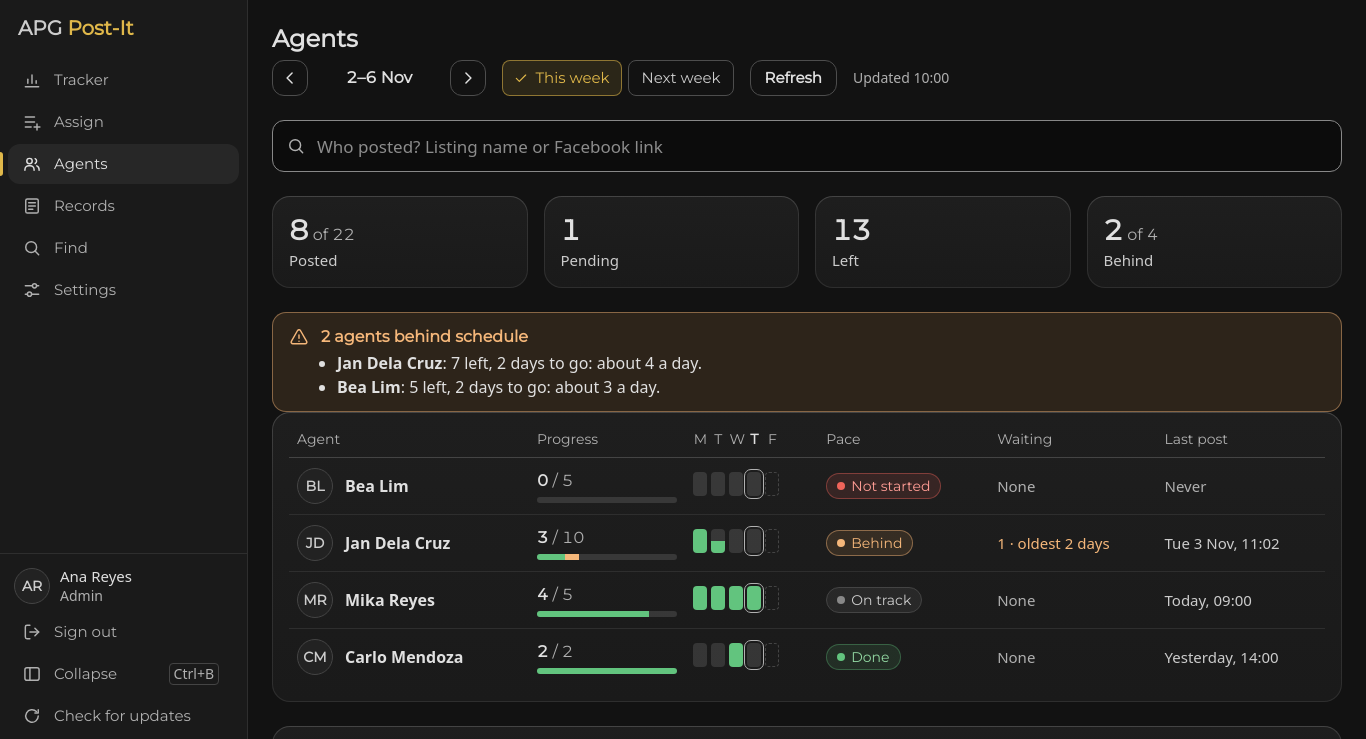
Scenario: the Interns screen: the week › follows the week picker
The image size is (1366, 739).
Click the 1st button named "Week before". click: point(290, 78)
box: [272, 60, 308, 96]
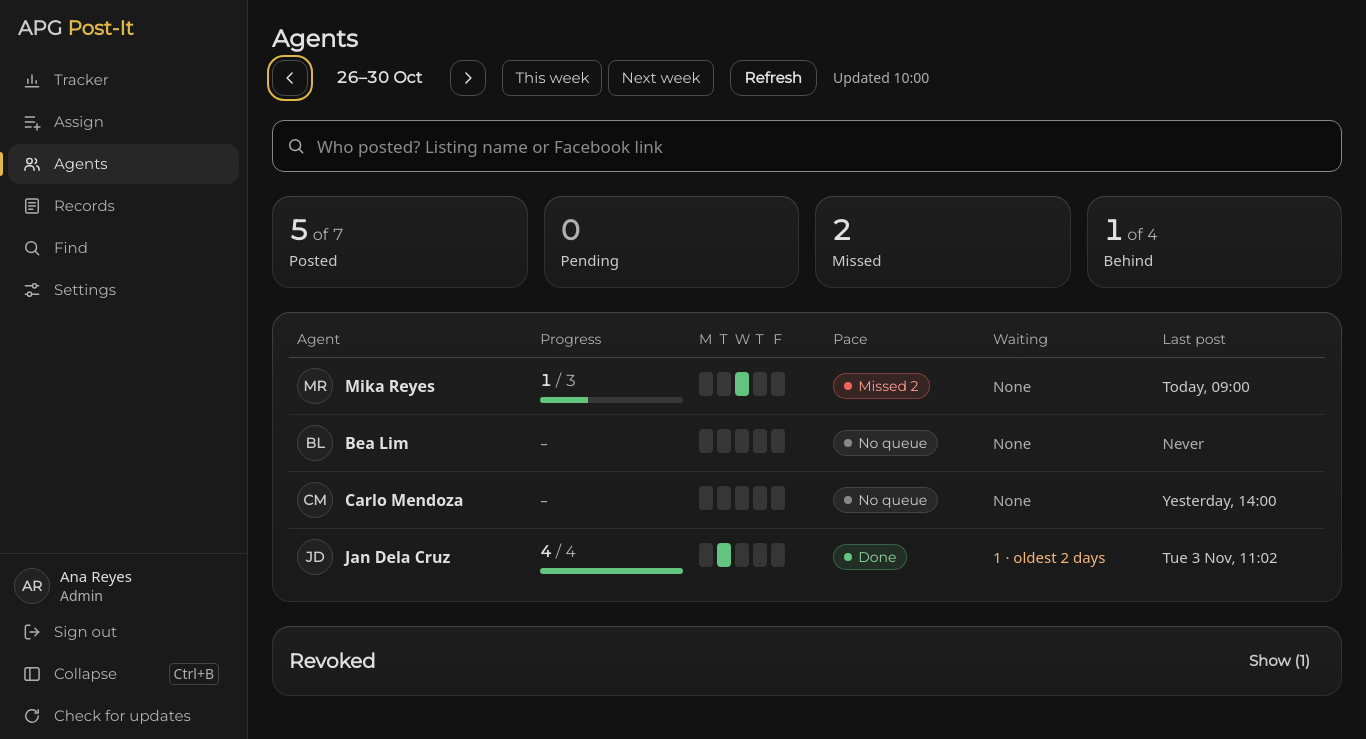
Result: the element "week" shows "26–30 Oct" at [336, 68, 422, 87]
Result: the text "Missed 2" in the row of "Today, 09:00" is shown at [858, 377, 919, 395]
Click the button "This week". click: point(552, 78)
box: [502, 60, 602, 96]
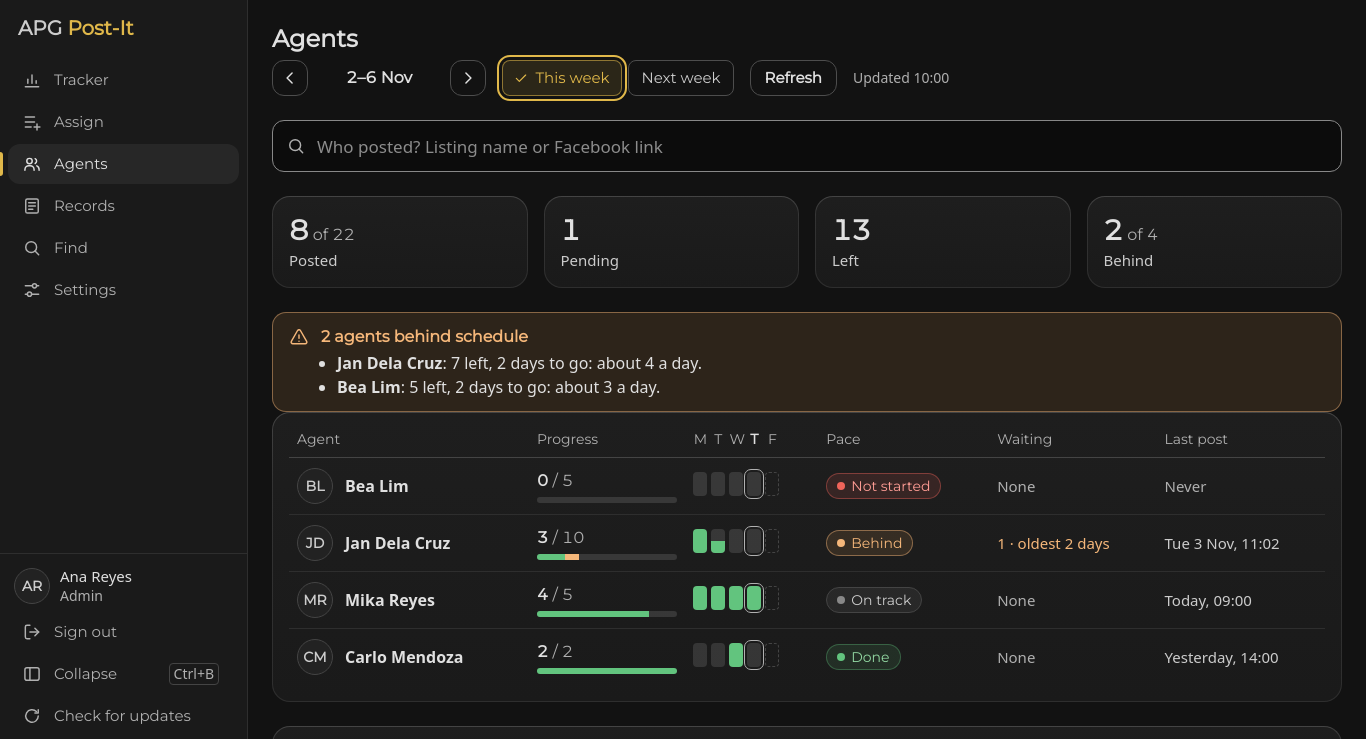
Result: the text "Bea Lim" next to "5 left, 2 days to go: about 3 a day." is shown at [337, 376, 401, 398]
